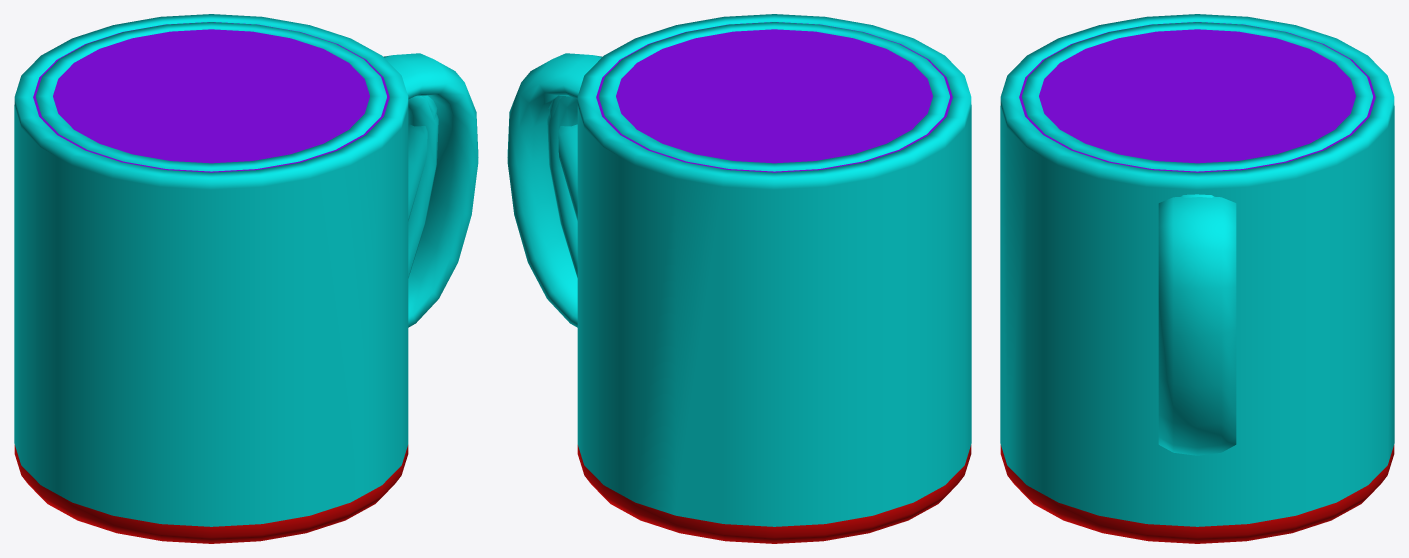
Rendered from mugs_grp.fbx.
3 views of the same model, side by side, from view 1: azimuth 30°, elevation 25°; view 2: azimuth 150°, elevation 25°; view 3: azimuth 270°, elevation 25° (orthographic).
Visible parts, largest first — view 1: mug_1, mug_liquid_volume_2, mug_2, mug_3, mug_liquid_volume_1; view 2: mug_1, mug_liquid_volume_2, mug_2, mug_3, mug_liquid_volume_1; view 3: mug_1, mug_liquid_volume_2, mug_2, mug_liquid_volume_1.
Part boxes in pixels (bbox=[...]): mug_1: bbox=[14, 14, 478, 543]; mug_liquid_volume_2: bbox=[53, 29, 369, 163]; mug_2: bbox=[36, 22, 438, 277]; mug_3: bbox=[408, 95, 437, 220]; mug_liquid_volume_1: bbox=[33, 22, 389, 172]; mug_1: bbox=[507, 14, 971, 543]; mug_liquid_volume_2: bbox=[616, 29, 932, 163]; mug_2: bbox=[547, 22, 949, 277]; mug_3: bbox=[548, 95, 577, 220]; mug_liquid_volume_1: bbox=[596, 22, 952, 172]; mug_1: bbox=[1000, 14, 1394, 543]; mug_liquid_volume_2: bbox=[1039, 29, 1355, 163]; mug_2: bbox=[1022, 22, 1372, 171]; mug_liquid_volume_1: bbox=[1019, 22, 1375, 172].
Size of the model in its own units: 12.57 by 10.31 by 10.01.
